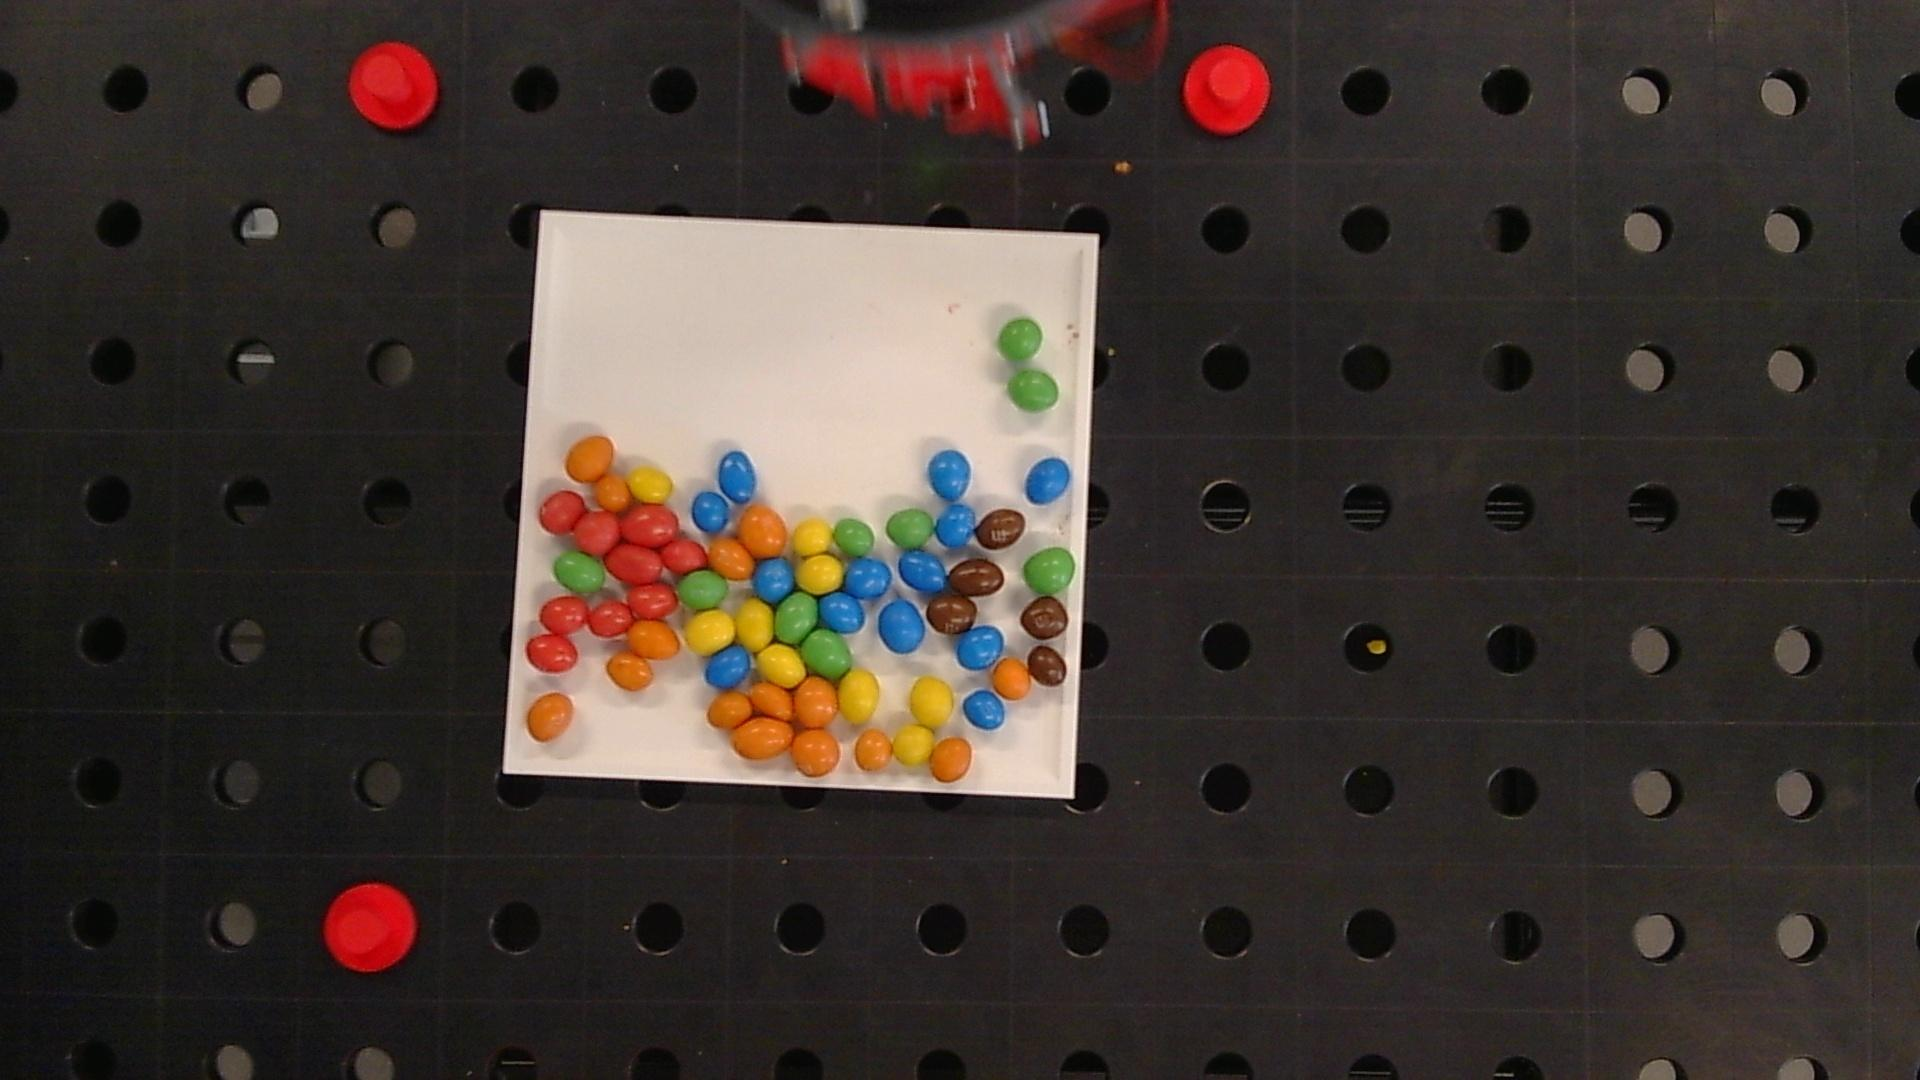blue: (878, 600, 924, 653), (956, 626, 1005, 670), (928, 450, 971, 500), (898, 551, 947, 592), (719, 451, 757, 502), (1026, 458, 1069, 502), (844, 558, 891, 599), (705, 646, 750, 688), (820, 592, 866, 632), (754, 558, 794, 600), (936, 505, 976, 547), (963, 691, 1005, 729), (692, 492, 729, 531)
brown: (947, 559, 1005, 596), (976, 509, 1026, 550), (1021, 597, 1068, 640), (927, 595, 977, 634), (1027, 645, 1067, 686)
green: (802, 630, 852, 676), (1023, 549, 1075, 593), (554, 551, 605, 593), (1007, 371, 1060, 411), (775, 592, 818, 642), (886, 508, 935, 549), (998, 318, 1043, 361), (678, 571, 728, 609), (833, 518, 876, 556)
orange: (732, 717, 794, 758), (740, 506, 787, 556), (527, 692, 574, 741), (791, 731, 841, 775), (794, 678, 837, 727), (566, 436, 615, 480), (708, 538, 754, 580), (629, 621, 679, 659), (931, 737, 972, 782), (607, 653, 654, 690), (708, 692, 752, 729), (855, 729, 893, 770), (993, 657, 1030, 699), (750, 683, 793, 719), (596, 476, 629, 510)
red: (621, 505, 678, 545), (607, 545, 662, 583), (526, 634, 578, 673), (574, 512, 620, 554), (539, 491, 584, 531), (541, 596, 588, 633), (628, 584, 676, 618), (661, 538, 707, 572), (588, 600, 632, 636)
yellow: (686, 609, 736, 654), (910, 676, 953, 728), (839, 670, 880, 724), (758, 645, 804, 686), (736, 600, 773, 647), (893, 724, 935, 765), (798, 555, 844, 592), (793, 517, 833, 555), (629, 468, 673, 502)
